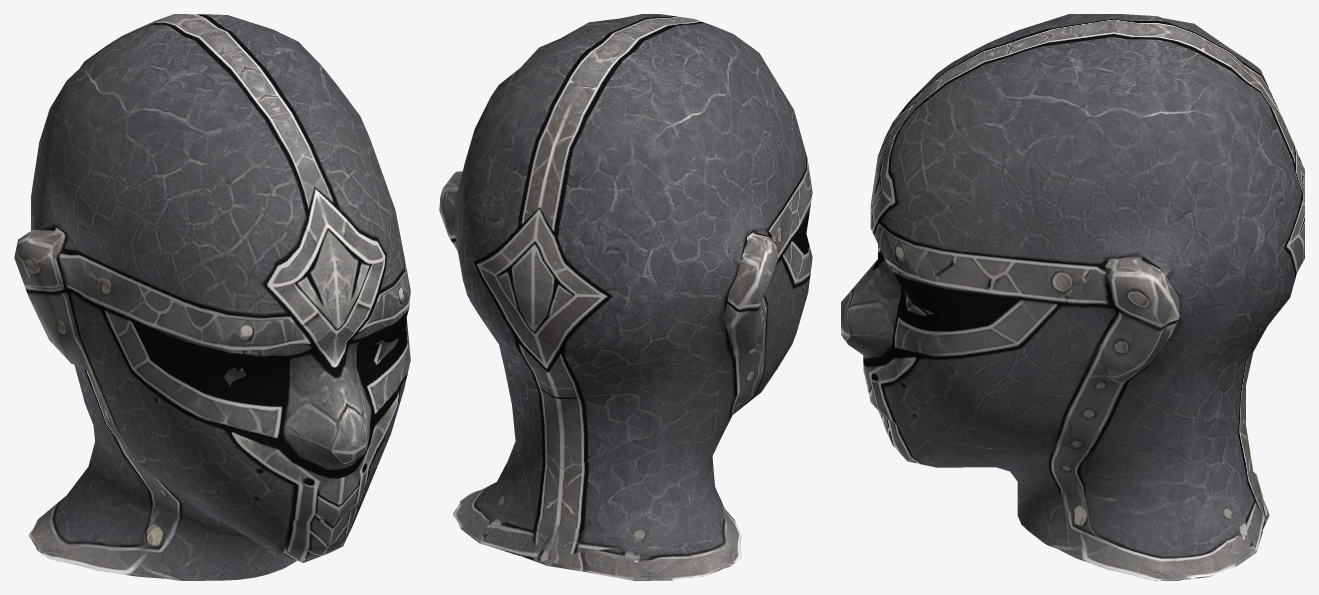
File: IronHelmet.glb
3 renders of one model, left to right at view 1: azimuth 30°, elevation 25°; view 2: azimuth 150°, elevation 25°; view 3: azimuth 270°, elevation 25°, orthographic. The views are drawn at different scales.
Bounding box in the file's own units: 1.44 × 2 × 1.72.
Materials: 1 (1 with a texture image).
